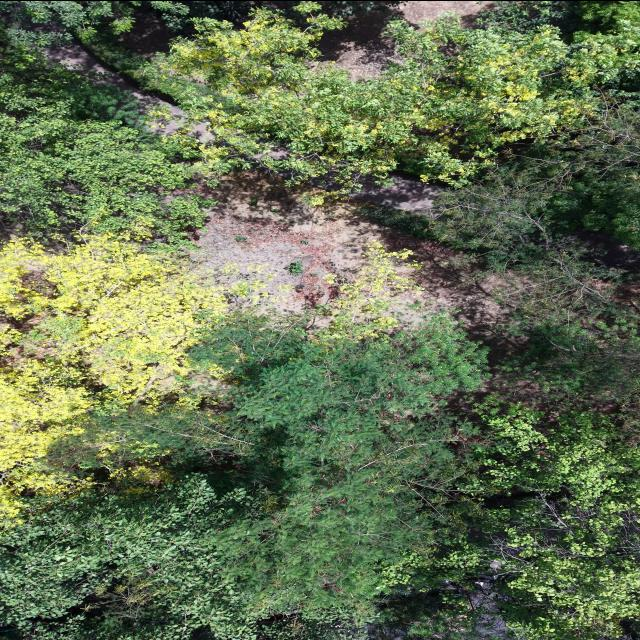DRY_AREA: (193, 171, 555, 367), (193, 172, 519, 365), (192, 170, 514, 359), (192, 171, 511, 361), (192, 170, 512, 355), (192, 171, 508, 357), (192, 171, 510, 337), (192, 171, 506, 336), (192, 171, 504, 336), (192, 171, 503, 335), (192, 171, 501, 324), (194, 171, 439, 313), (194, 171, 380, 313), (199, 172, 383, 306), (320, 1, 491, 79), (321, 1, 492, 79), (320, 1, 492, 78), (320, 1, 491, 78), (321, 1, 492, 77), (323, 1, 490, 78), (45, 42, 181, 134), (321, 1, 492, 69), (44, 40, 178, 114), (45, 39, 175, 111), (348, 171, 441, 216), (457, 565, 509, 639), (118, 8, 175, 57), (398, 1, 493, 27)
VEGETATION_TREE: (0, 1, 639, 639), (2, 253, 637, 639), (2, 319, 638, 639), (3, 1, 639, 246), (4, 322, 485, 639), (142, 4, 638, 265), (145, 4, 637, 185), (0, 239, 250, 521), (0, 35, 210, 251), (426, 99, 639, 261), (0, 1, 296, 57), (0, 1, 191, 46), (478, 1, 639, 33)
